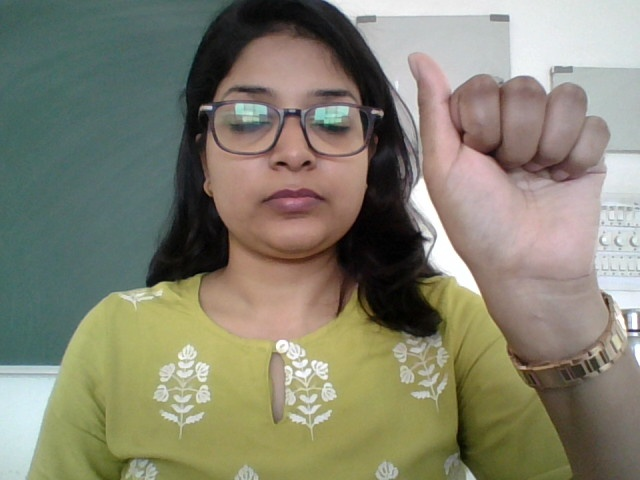A: (395, 42, 634, 348)
